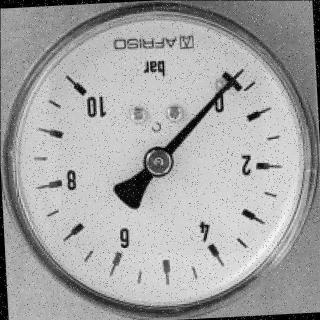gauge: (0, 0, 320, 320), (212, 63, 248, 98), (142, 147, 174, 179), (68, 76, 94, 105), (230, 64, 248, 82)
